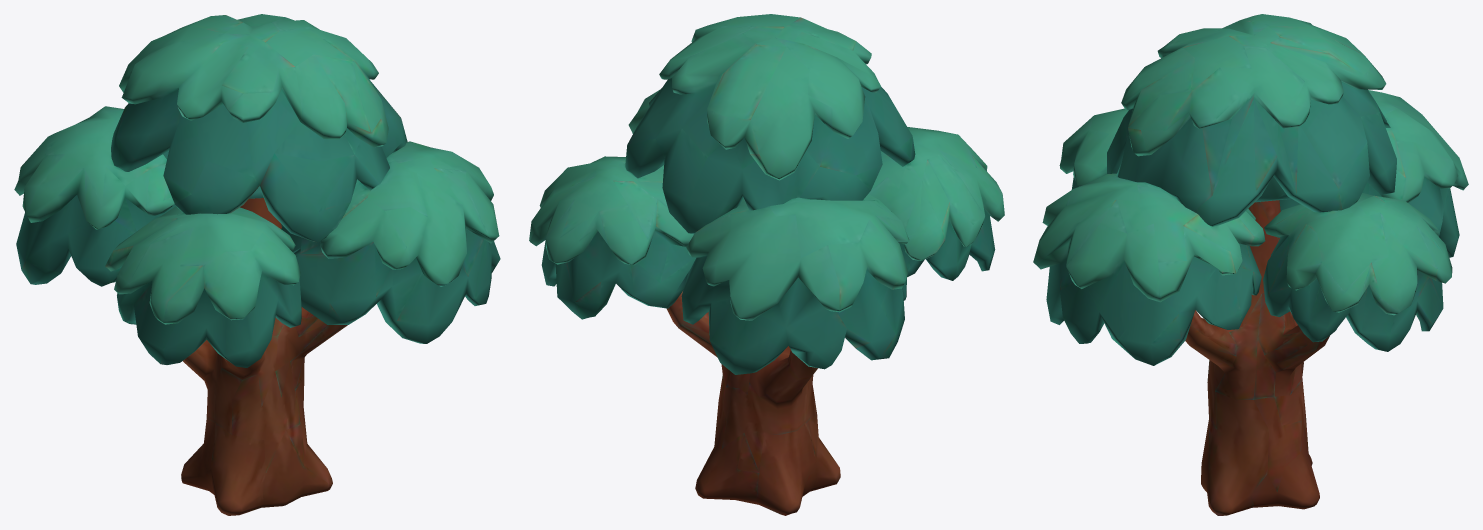
File: tree.glb
3 renders of one model, left to right at view 1: azimuth 30°, elevation 25°; view 2: azimuth 150°, elevation 25°; view 3: azimuth 270°, elevation 25°, orthographic.
Bounding box in the file's own units: 0.8066 × 0.9531 × 0.8311.
1 material, 1 textured.
